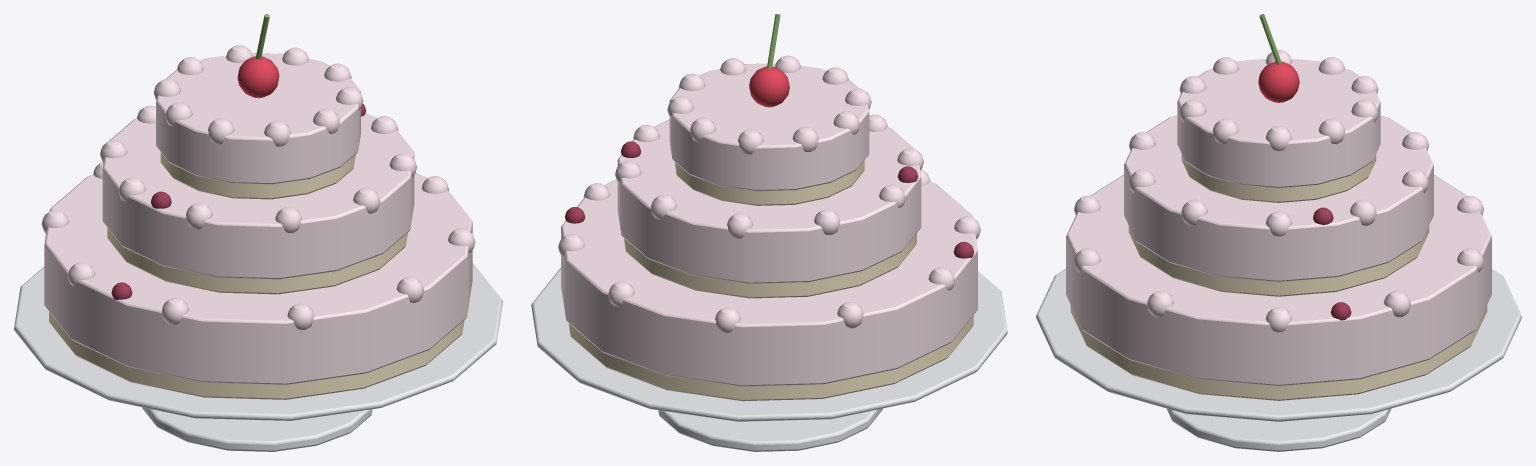
The model's file is cake.low.glb.
3 renders of one model, left to right at view 1: azimuth 30°, elevation 25°; view 2: azimuth 150°, elevation 25°; view 3: azimuth 270°, elevation 25°, orthographic. The views are drawn at different scales.
Visible parts, largest first — view 1: tier1, tier2, stand, tier3, cream3, cream2, cream1, topper, berries; view 2: tier1, tier2, stand, tier3, cream3, cream2, cream1, topper, berries; view 3: tier1, tier2, tier3, stand, cream3, cream1, cream2, topper, berries.
Boxes of the visible parts, bbox=[...] form: tier1: bbox=[44, 172, 472, 399]; tier2: bbox=[102, 113, 414, 294]; stand: bbox=[14, 263, 502, 451]; tier3: bbox=[156, 53, 360, 199]; cream3: bbox=[153, 45, 363, 146]; cream2: bbox=[100, 105, 416, 232]; cream1: bbox=[41, 162, 475, 329]; topper: bbox=[237, 14, 279, 98]; berries: bbox=[111, 103, 366, 299]; tier1: bbox=[561, 179, 977, 401]; tier2: bbox=[617, 119, 921, 298]; stand: bbox=[531, 268, 1007, 451]; tier3: bbox=[669, 63, 869, 205]; cream3: bbox=[667, 55, 871, 154]; cream2: bbox=[615, 114, 923, 238]; cream1: bbox=[558, 169, 980, 333]; topper: bbox=[749, 14, 789, 107]; berries: bbox=[565, 141, 973, 258]; tier1: bbox=[1066, 174, 1491, 400]; tier2: bbox=[1124, 115, 1433, 296]; tier3: bbox=[1177, 59, 1380, 202]; stand: bbox=[1036, 269, 1521, 451]; cream3: bbox=[1179, 49, 1378, 150]; cream1: bbox=[1074, 195, 1483, 332]; cream2: bbox=[1129, 132, 1428, 236]; topper: bbox=[1258, 14, 1299, 102]; berries: bbox=[1313, 207, 1351, 320].
Size of the model in its own units: 2.1 by 1.86 by 2.1.
